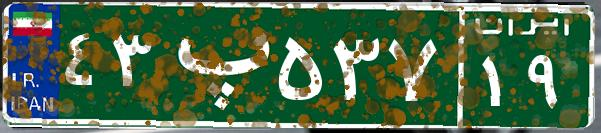1: (475, 38, 525, 113)
3: (330, 28, 385, 110), (110, 28, 158, 105)
4: (57, 26, 110, 107)
5: (273, 28, 330, 110)
7: (385, 28, 445, 110)
9: (525, 38, 570, 115)
پ: (158, 15, 273, 115)
